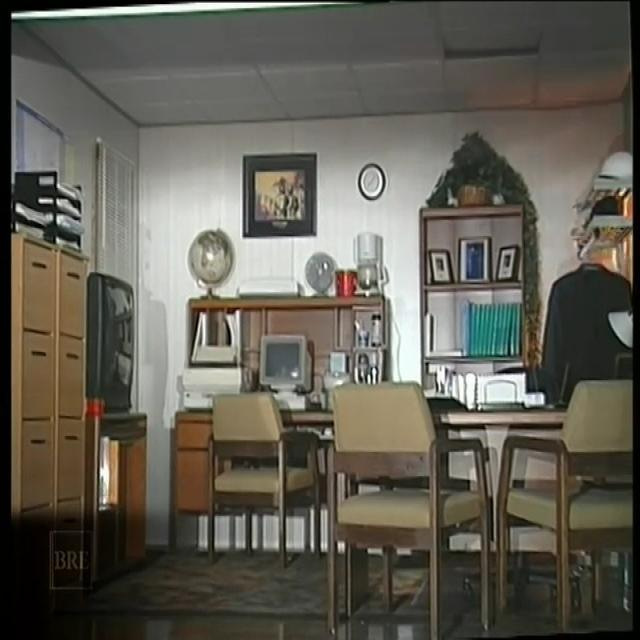Fire: (589, 176, 640, 276)
